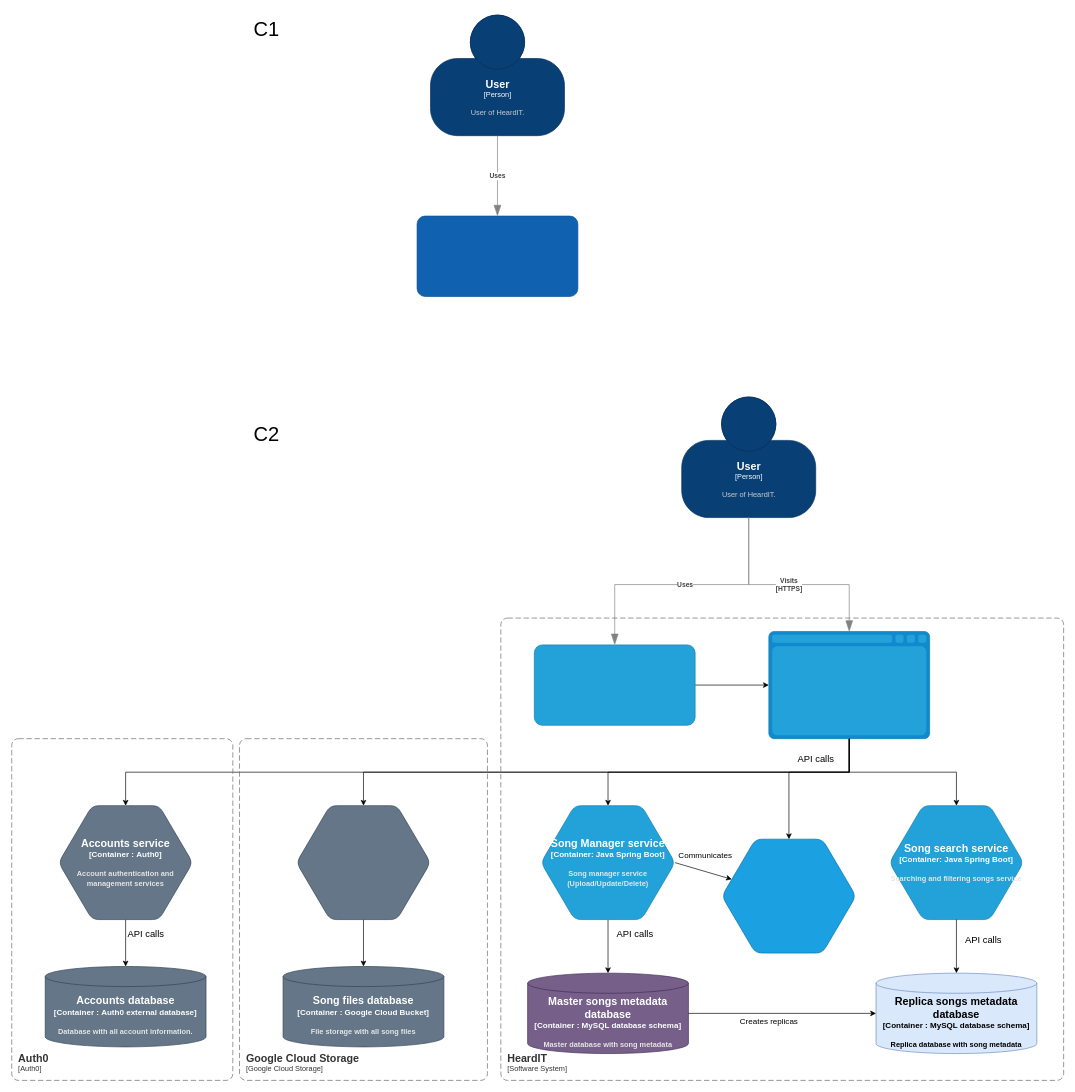
Image size: 1075x1092. Some labels were removed from this diagram. Here are the shapes that lost their labels. From the top down, the centre of each, then its label:
At point 497,255: "HeardIT [Software System] HeardIT web-application.".
At point 614,684: "HeardIT-Front-end [Container: ReactJs] Front-end of HeardIT application.".
At point 849,685: "HeardIt Page [Container : ReactJS] HeardIT page application".
At point 363,862: "Song stream service [Container: Google Cloud] Song streaming services".
At point 788,896: "Message Broker [Container: RabbitMQ, Java Spring Boot] Message broker service".
